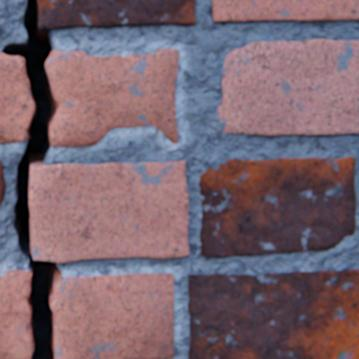brick: (29, 161, 188, 261), (198, 157, 354, 256), (187, 269, 358, 358), (216, 39, 358, 135), (38, 0, 194, 31), (211, 0, 358, 22), (0, 159, 5, 204)
broken_brick: (45, 49, 178, 146), (50, 273, 173, 358), (0, 52, 34, 142), (0, 269, 33, 358)
crack: (2, 0, 60, 358)
